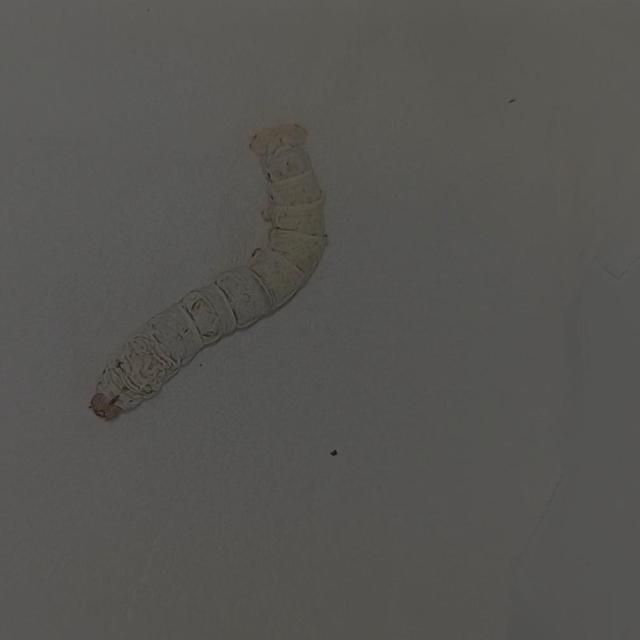Healthy: (43, 96, 419, 457)
